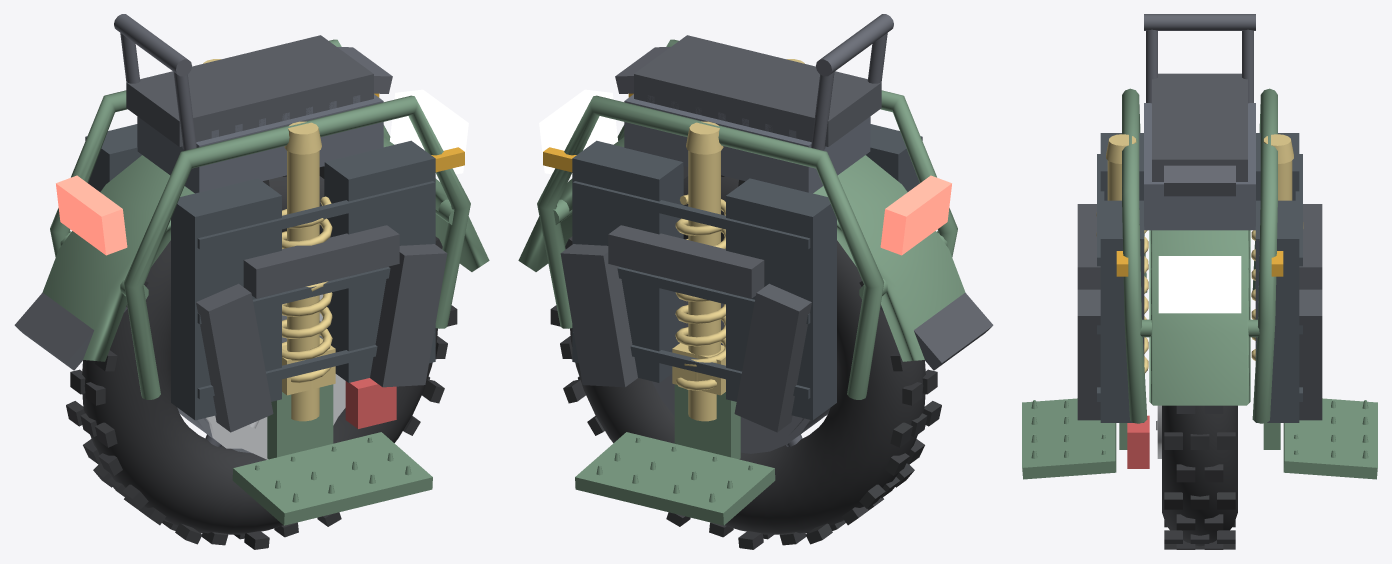
The model's file is euc.glb.
3 renders of one model, left to right at view 1: azimuth 30°, elevation 25°; view 2: azimuth 150°, elevation 25°; view 3: azimuth 270°, elevation 25°, orthographic. The views are drawn at different scales.
Visible parts, largest first — view 1: frame_shell_rollcage, seat_power_pads_fender, battery_twin_packs, main_wheel_tire, stanchion_spring_suspension, controller_mainboard, cockpit_trolley_tft, taillight_led, headlight_led, brake_caliper_accent, main_wheel_rotor, signal_right; view 2: frame_shell_rollcage, seat_power_pads_fender, battery_twin_packs, main_wheel_tire, stanchion_spring_suspension, controller_mainboard, cockpit_trolley_tft, taillight_led, headlight_led, main_wheel_motor_hub, signal_left; view 3: frame_shell_rollcage, seat_power_pads_fender, battery_twin_packs, main_wheel_tire, controller_mainboard, cockpit_trolley_tft, headlight_led, stanchion_spring_suspension, brake_caliper_accent.
Boxes of the visible parts, x1=… form: frame_shell_rollcage: x1=42, y1=39, x2=489, y2=525; seat_power_pads_fender: x1=14, y1=35, x2=447, y2=432; battery_twin_packs: x1=85, y1=124, x2=435, y2=420; main_wheel_tire: x1=66, y1=166, x2=457, y2=549; stanchion_spring_suspension: x1=203, y1=59, x2=335, y2=421; controller_mainboard: x1=137, y1=94, x2=383, y2=193; cockpit_trolley_tft: x1=114, y1=14, x2=392, y2=150; taillight_led: x1=56, y1=175, x2=127, y2=255; headlight_led: x1=390, y1=89, x2=468, y2=176; brake_caliper_accent: x1=345, y1=378, x2=396, y2=428; main_wheel_rotor: x1=206, y1=294, x2=345, y2=459; signal_right: x1=431, y1=147, x2=464, y2=172; frame_shell_rollcage: x1=518, y1=39, x2=965, y2=525; seat_power_pads_fender: x1=560, y1=35, x2=993, y2=432; battery_twin_packs: x1=572, y1=124, x2=922, y2=420; main_wheel_tire: x1=550, y1=166, x2=941, y2=549; stanchion_spring_suspension: x1=672, y1=59, x2=804, y2=421; controller_mainboard: x1=624, y1=94, x2=870, y2=193; cockpit_trolley_tft: x1=615, y1=14, x2=893, y2=150; taillight_led: x1=880, y1=175, x2=951, y2=255; headlight_led: x1=539, y1=89, x2=617, y2=176; main_wheel_motor_hub: x1=652, y1=300, x2=830, y2=453; signal_left: x1=543, y1=147, x2=576, y2=172; frame_shell_rollcage: x1=1022, y1=88, x2=1377, y2=479; seat_power_pads_fender: x1=1077, y1=73, x2=1322, y2=420; battery_twin_packs: x1=1097, y1=133, x2=1302, y2=422; main_wheel_tire: x1=1162, y1=405, x2=1237, y2=549; controller_mainboard: x1=1144, y1=103, x2=1255, y2=230; cockpit_trolley_tft: x1=1144, y1=14, x2=1255, y2=196; headlight_led: x1=1158, y1=256, x2=1241, y2=313; stanchion_spring_suspension: x1=1096, y1=134, x2=1303, y2=372; brake_caliper_accent: x1=1127, y1=415, x2=1149, y2=468.
Size of the model in its own units: 0.8278 by 0.9721 by 0.6664.
